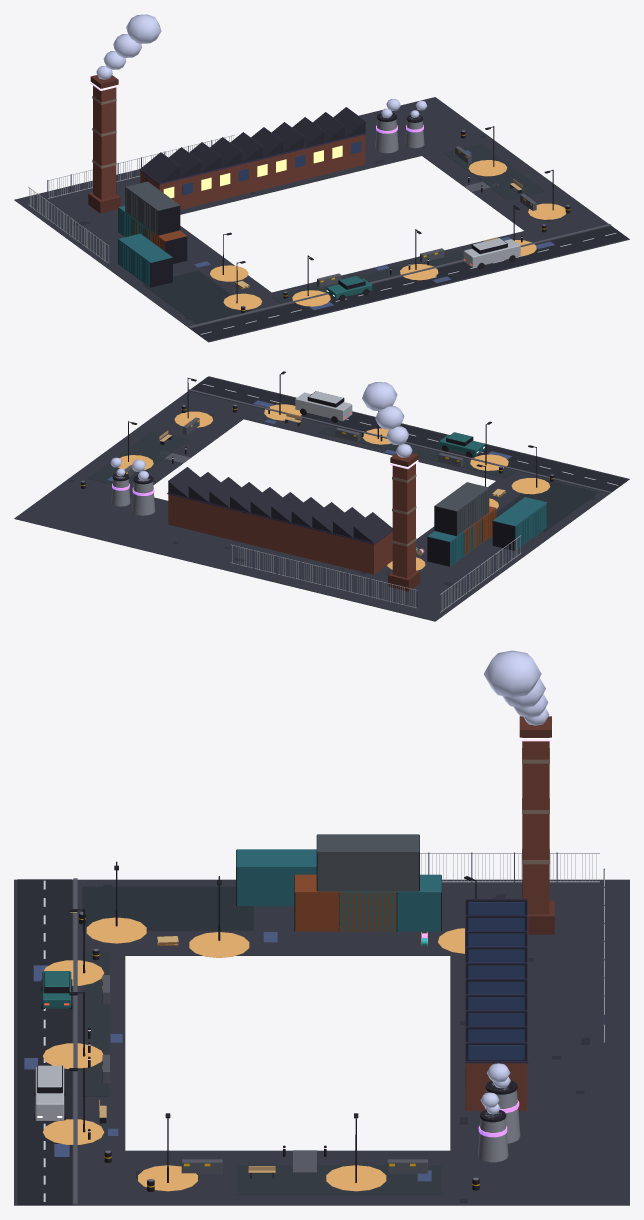
The model's file is umgebung.glb.
The picture shows the model from 3 angles, top to bottom: view 1: azimuth 30°, elevation 25°; view 2: azimuth 150°, elevation 25°; view 3: azimuth 270°, elevation 25°; orthographic projection. The views are drawn at different scales.
Visible parts, largest first — view 1: umgebung; view 2: umgebung; view 3: umgebung.
Part boxes in pixels (x1,y1,x2,y2): umgebung: (14,14,629,342); umgebung: (14,371,629,621); umgebung: (14,650,629,1205).
Size of the model in its own units: 45 by 19.26 by 36.
